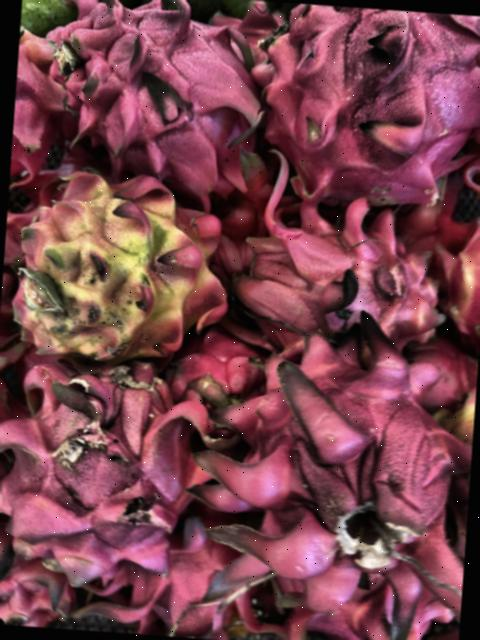buah-naga-belum-matang: (0, 164, 245, 375)
buah-naga-matang: (221, 357, 476, 619), (21, 0, 272, 194), (0, 359, 205, 594), (245, 1, 480, 206), (237, 162, 448, 358)
